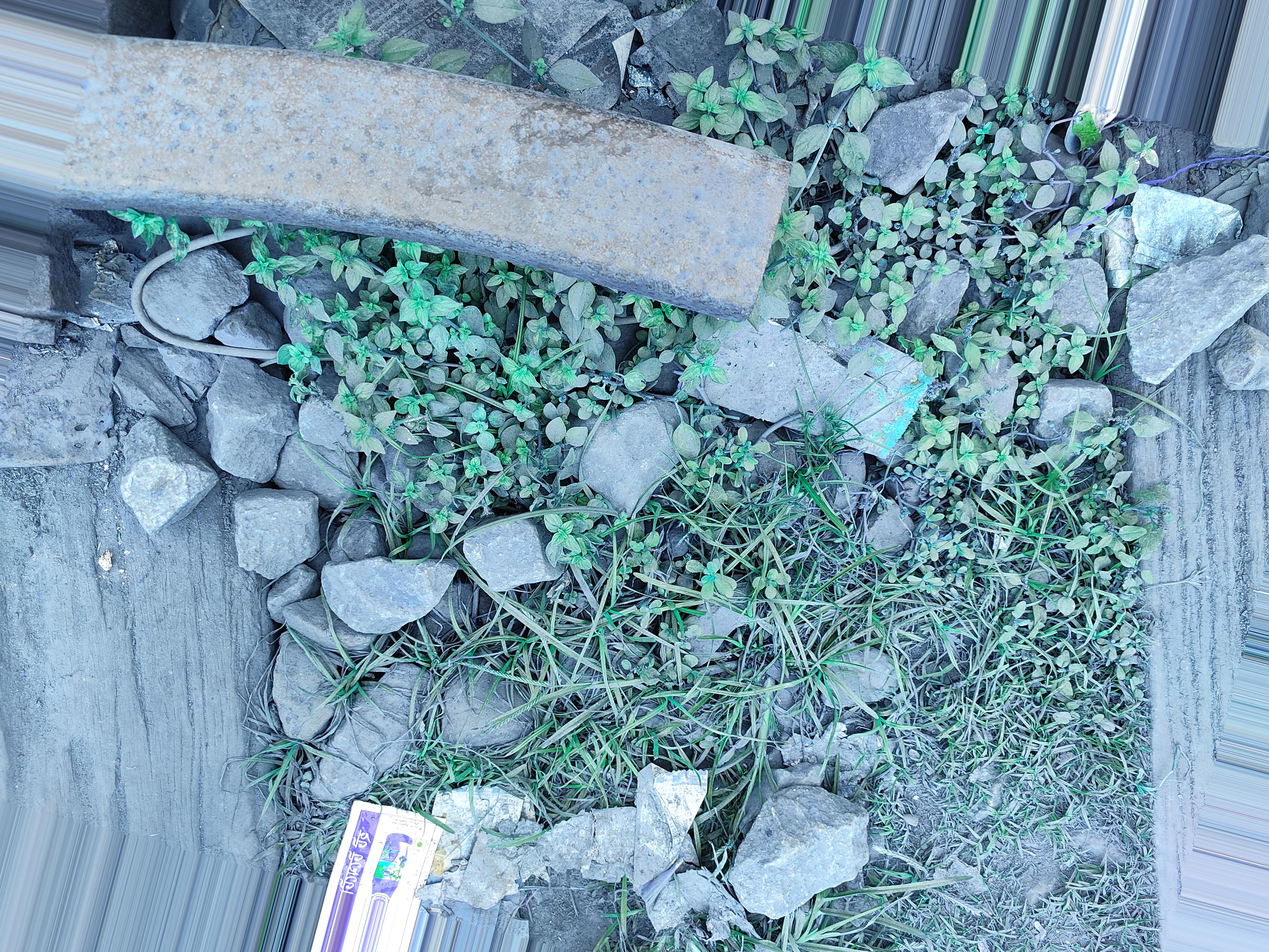tracks_fault: (614, 112, 1268, 396)
